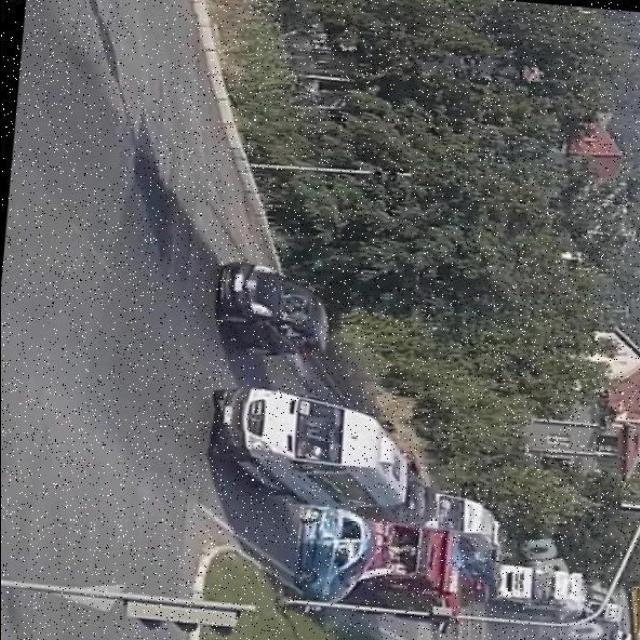accident: (292, 497, 480, 637)
